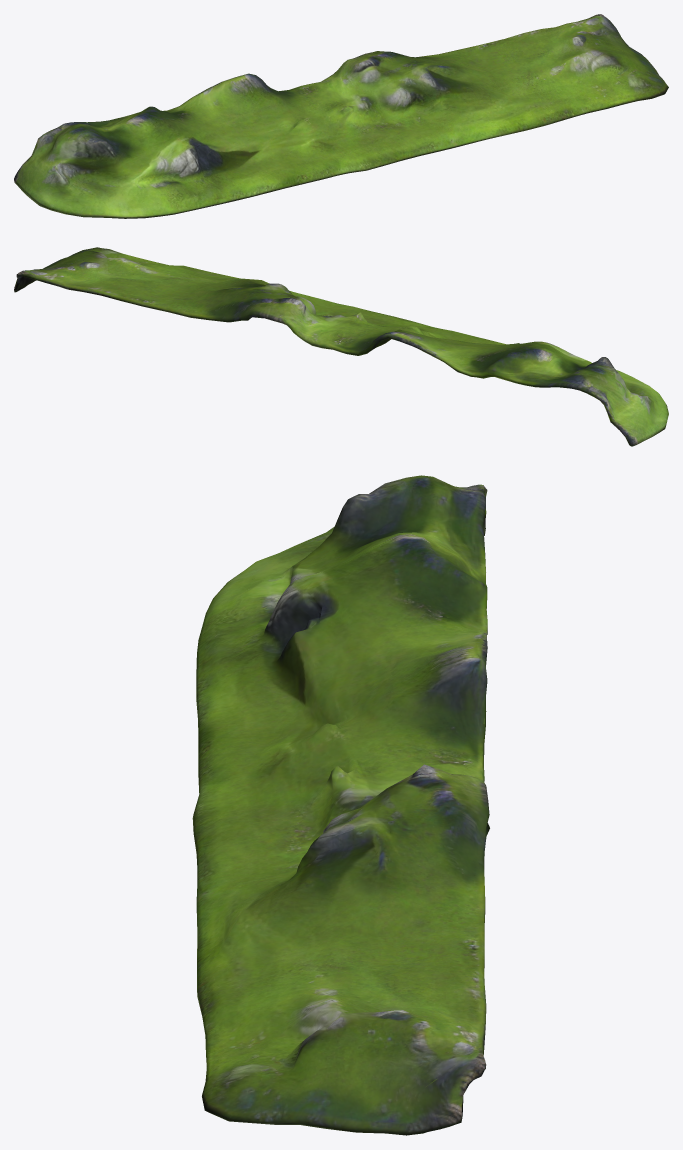
Rendered from _A_3D_model_of_a_fant_0305090339_texture.fbx.
3 renders of one model, top to bottom at view 1: azimuth 30°, elevation 25°; view 2: azimuth 150°, elevation 25°; view 3: azimuth 270°, elevation 25°, orthographic. The views are drawn at different scales.
Parts seen in each view (by area): view 1: Mesh1_Mesh1.004; view 2: Mesh1_Mesh1.004; view 3: Mesh1_Mesh1.004.
Part boxes in pixels (left/top/right/bottom): Mesh1_Mesh1.004: left=14, top=14, right=668, bottom=218; Mesh1_Mesh1.004: left=14, top=247, right=668, bottom=446; Mesh1_Mesh1.004: left=192, top=475, right=489, bottom=1135.
Size of the model in its own units: 10879 by 1000 by 2306.
Materials: 1 (1 with a texture image).
